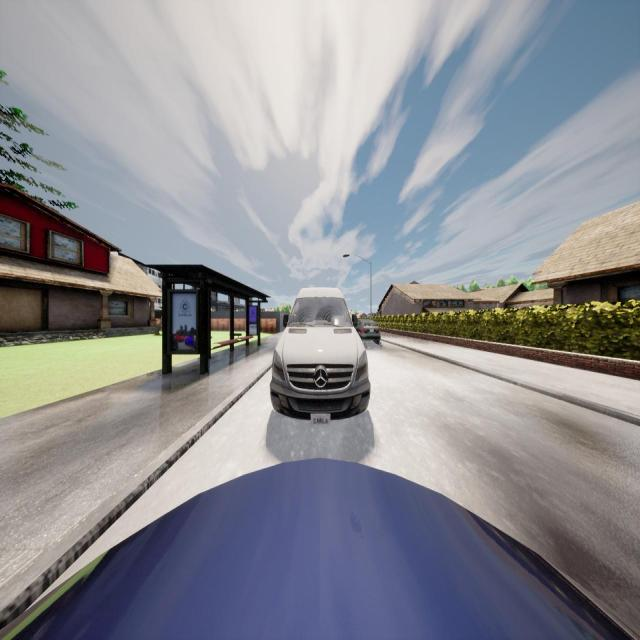Vehicle: (1, 458, 640, 640), (270, 287, 370, 419), (356, 319, 380, 344)
